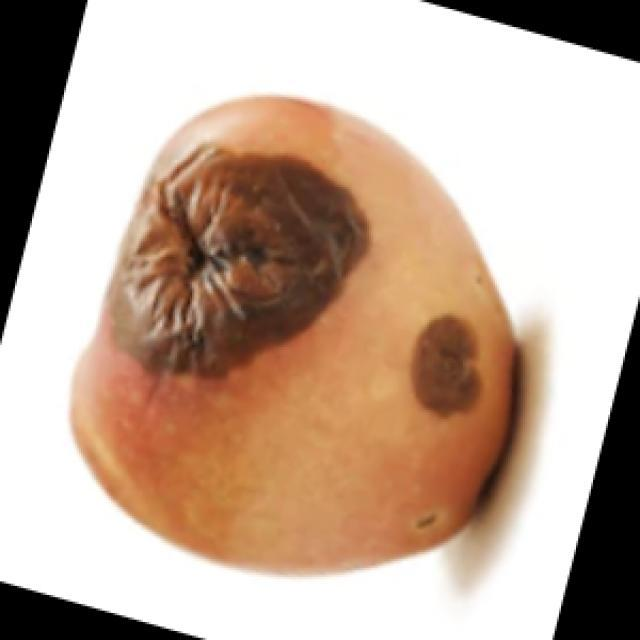Rotten: (85, 100, 525, 580)
